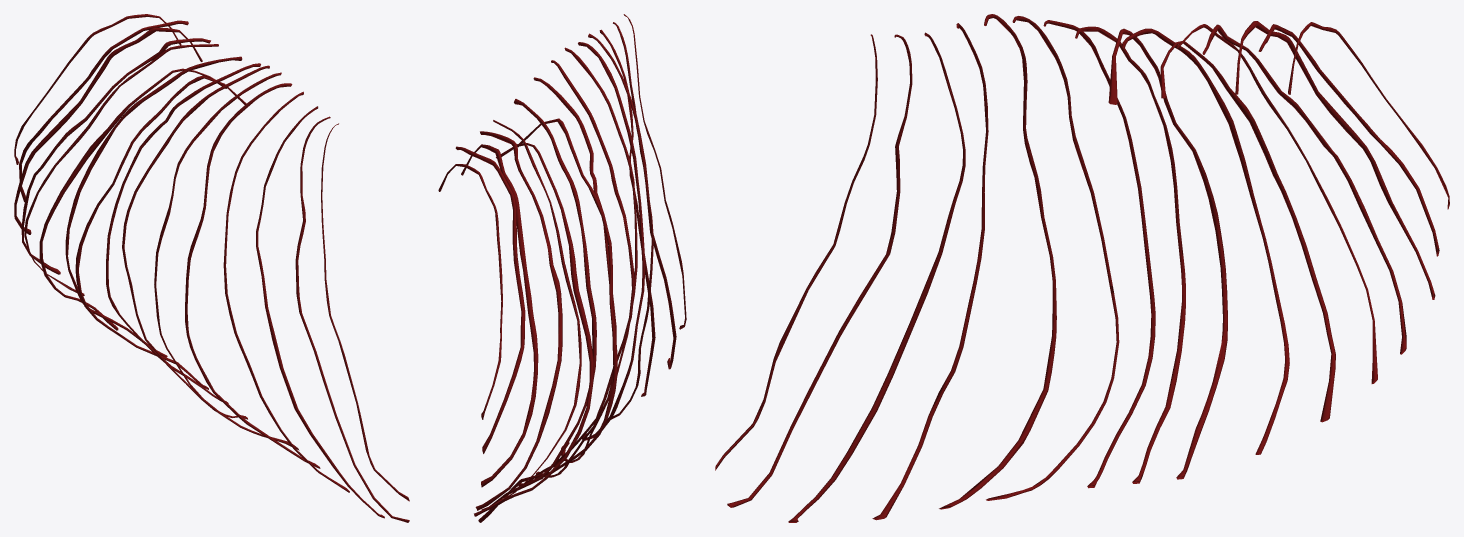
File: R rami intercostales ventrales.fbx
The picture shows the model from 3 angles, left to right: view 1: azimuth 30°, elevation 25°; view 2: azimuth 150°, elevation 25°; view 3: azimuth 270°, elevation 25°; orthographic projection. The views are drawn at different scales.
Parts seen in each view (by area): view 1: R rami intercostales ventrales, R rami intercostales ventrales low; view 2: R rami intercostales ventrales, R rami intercostales ventrales low; view 3: R rami intercostales ventrales, R rami intercostales ventrales low.
Boxes of the visible parts, box(x1,y1,x2,y2) form: R rami intercostales ventrales: box(14, 14, 409, 522); R rami intercostales ventrales low: box(14, 16, 409, 521); R rami intercostales ventrales: box(438, 14, 686, 522); R rami intercostales ventrales low: box(455, 16, 685, 522); R rami intercostales ventrales: box(715, 14, 1449, 522); R rami intercostales ventrales low: box(727, 15, 1449, 521).
Size of the model in its own units: 17.58 by 43.34 by 58.53.
